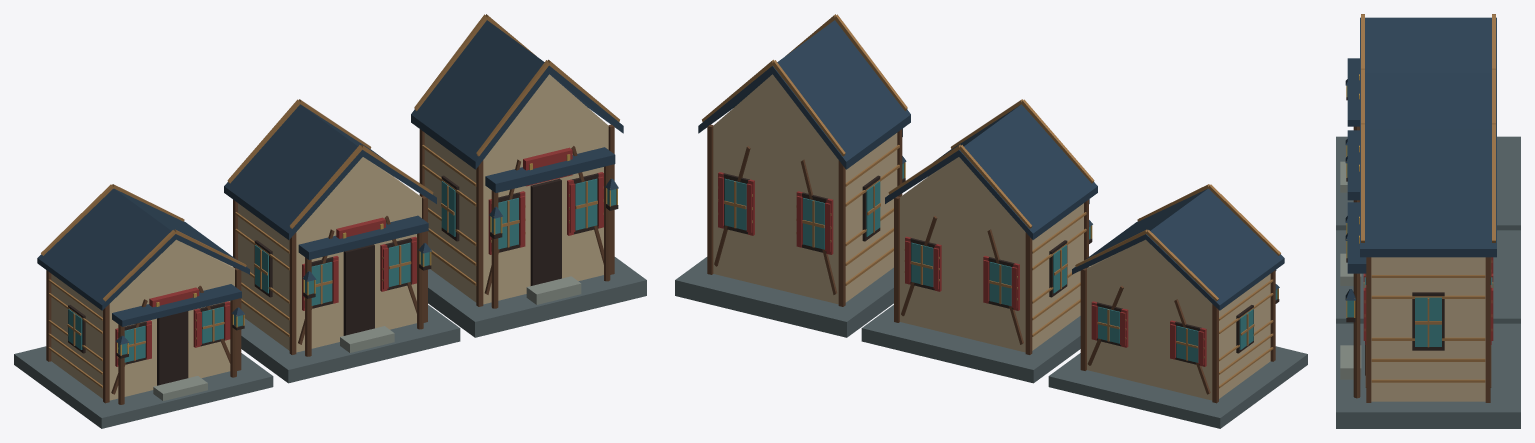
File: PirateCove_BackdropRow_Showcase.glb
3 views of the same model, side by side, from view 1: azimuth 30°, elevation 25°; view 2: azimuth 150°, elevation 25°; view 3: azimuth 270°, elevation 25° (orthographic). The views are drawn at different scales.
Visible parts, largest first — view 1: PirateCove_BackdropRow_Showcase; view 2: PirateCove_BackdropRow_Showcase; view 3: PirateCove_BackdropRow_Showcase.
Part boxes in pixels (bbox=[...]): PirateCove_BackdropRow_Showcase: bbox=[14, 14, 646, 428]; PirateCove_BackdropRow_Showcase: bbox=[675, 14, 1307, 428]; PirateCove_BackdropRow_Showcase: bbox=[1336, 14, 1520, 428].
Size of the model in its own units: 18.98 by 8.22 by 5.28.
